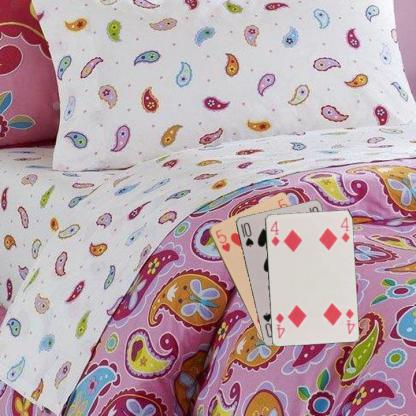10s: (240, 219, 255, 248)
4d: (267, 218, 281, 248), (343, 306, 356, 335)
5h: (213, 227, 231, 253)
